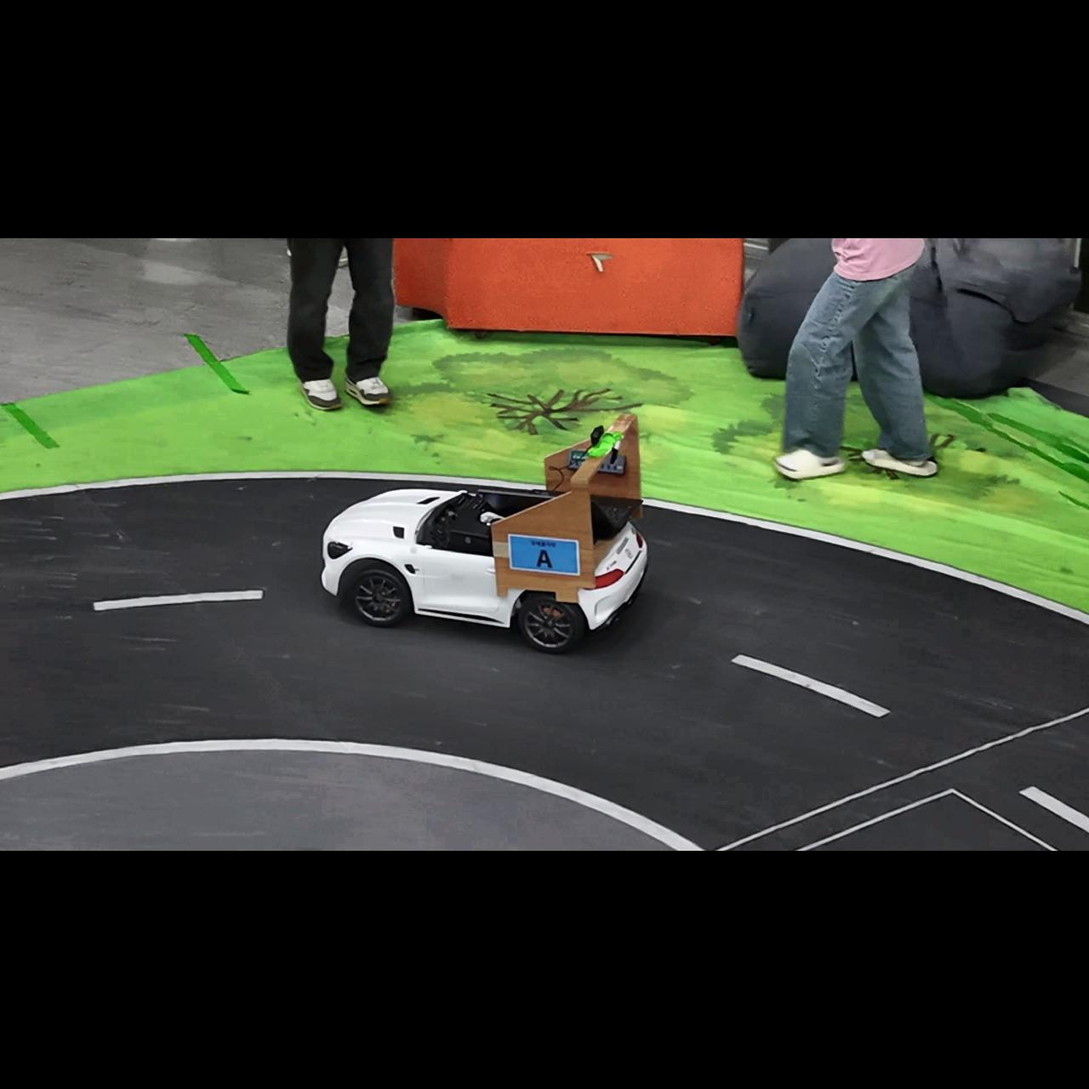broken_line: (730, 654, 891, 718), (93, 590, 264, 611), (1017, 785, 1088, 833)
